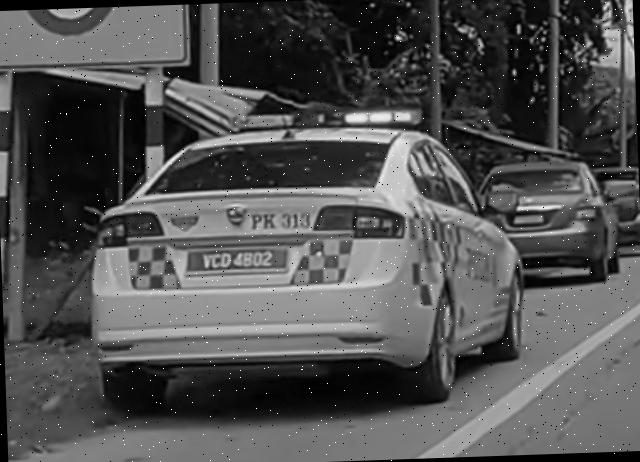License_Plate: (183, 246, 290, 277)
car: (83, 101, 529, 417)
